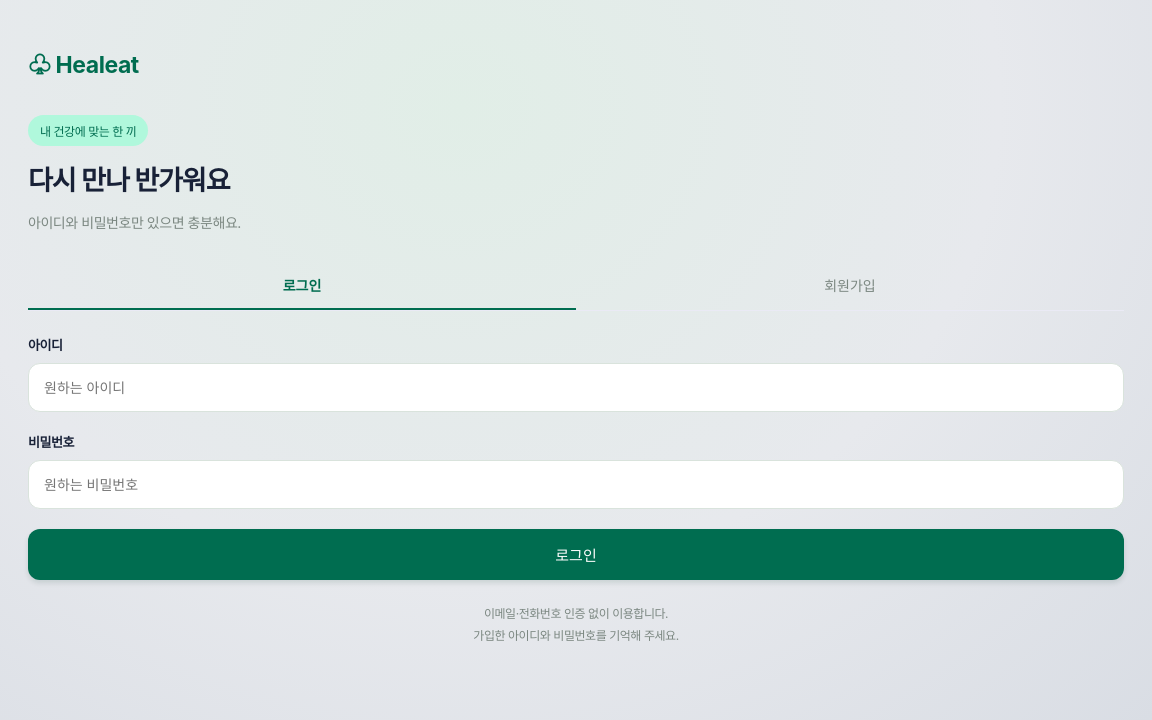
React migration regression coverage › signs up from the React form and opens the authenticated app
Click the button "회원가입".
click(850, 286)  # box x1=576 y1=262 x2=1124 y2=310
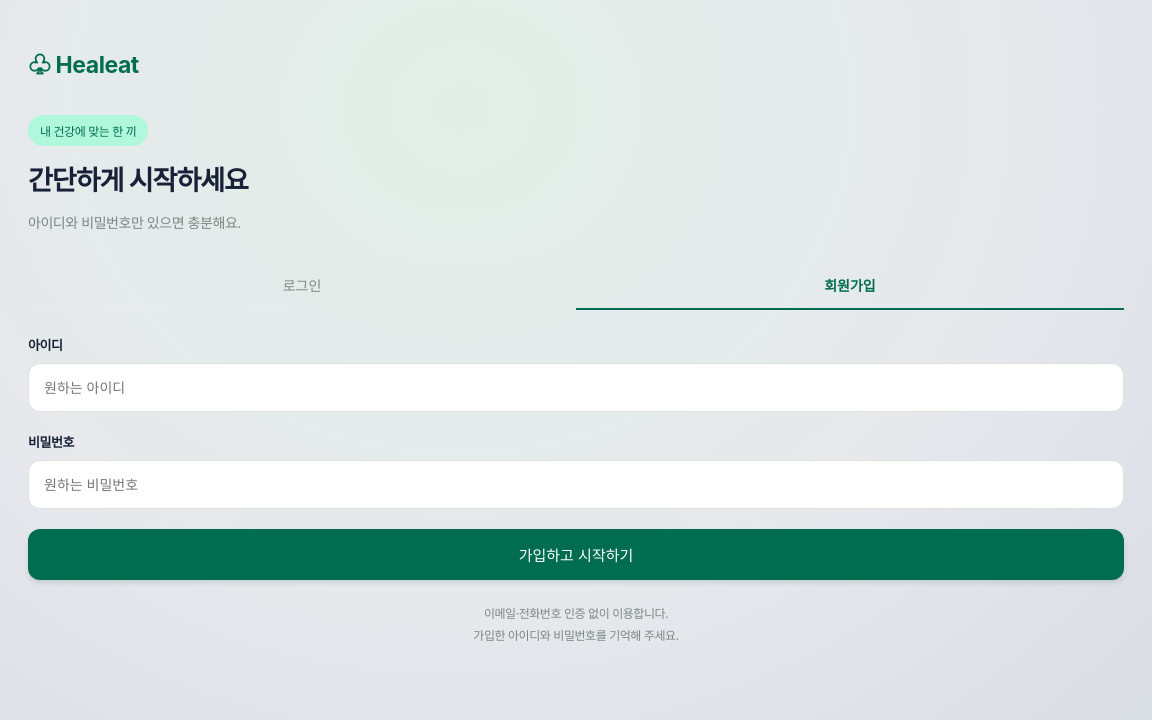
Type "가나다" into the field labelled "아이디".
click(576, 388); type("가나다")  # box x1=28 y1=363 x2=1124 y2=412
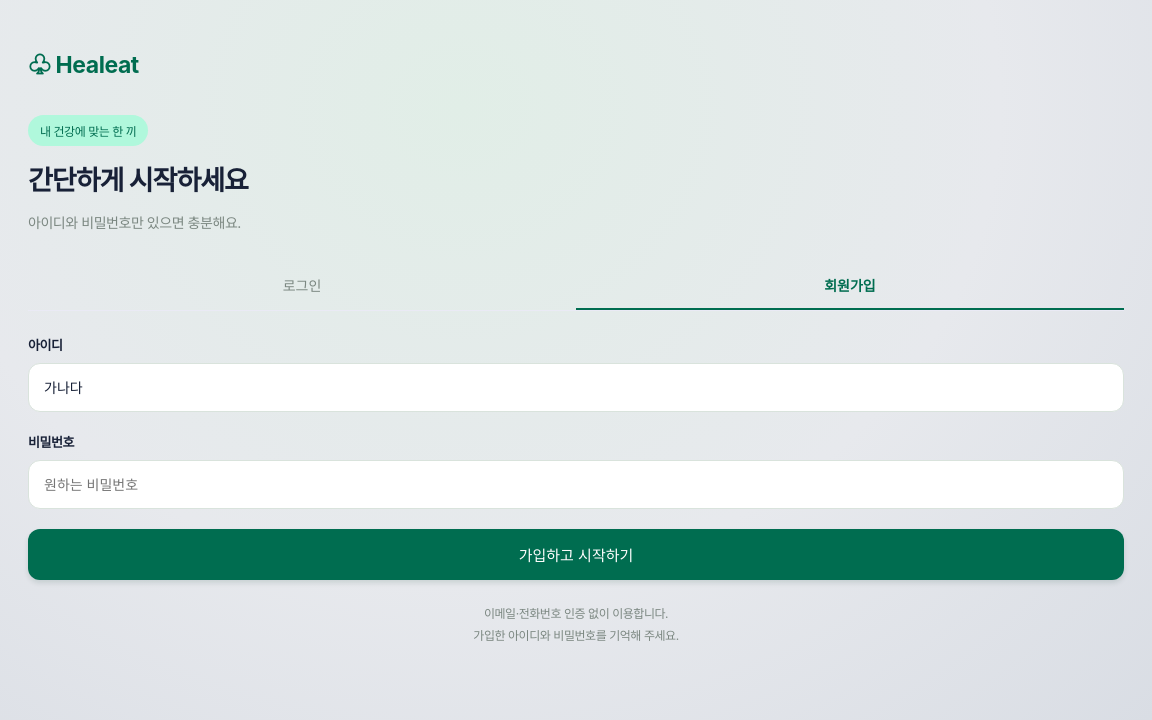
Type "1" into the password field labelled "비밀번호".
click(576, 484); type("1")  # box x1=28 y1=460 x2=1124 y2=509
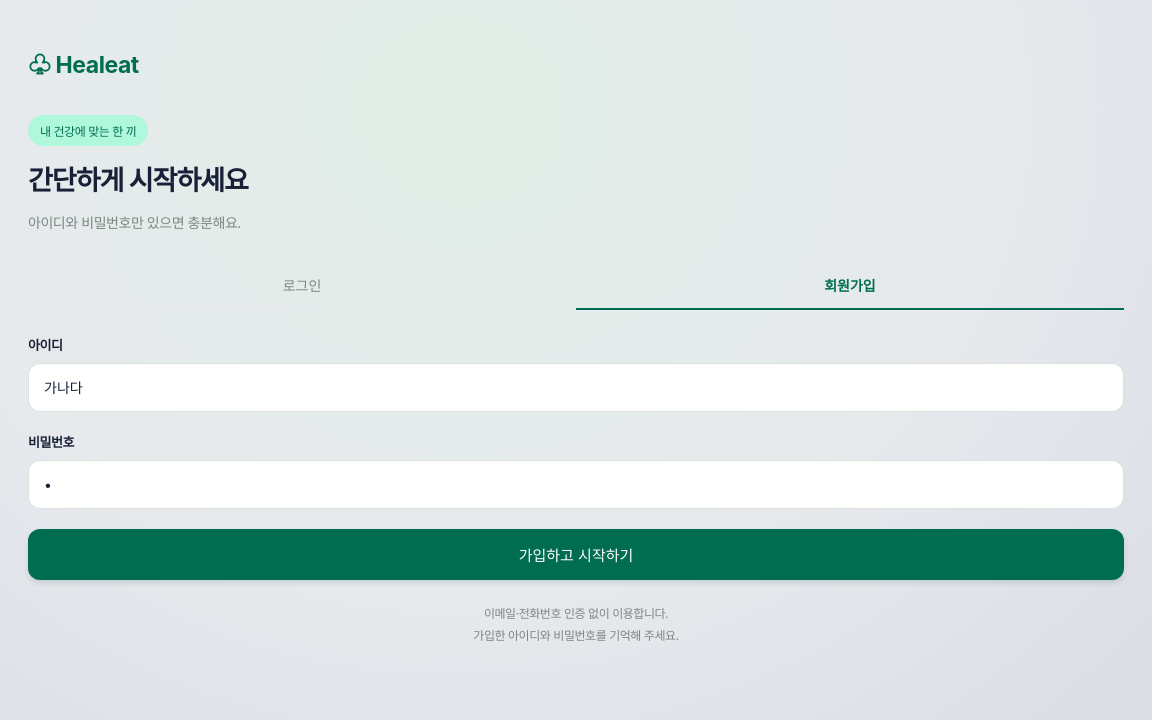
Click the button "가입하고 시작하기".
click(576, 554)  # box x1=28 y1=529 x2=1124 y2=580
(page scrolled)
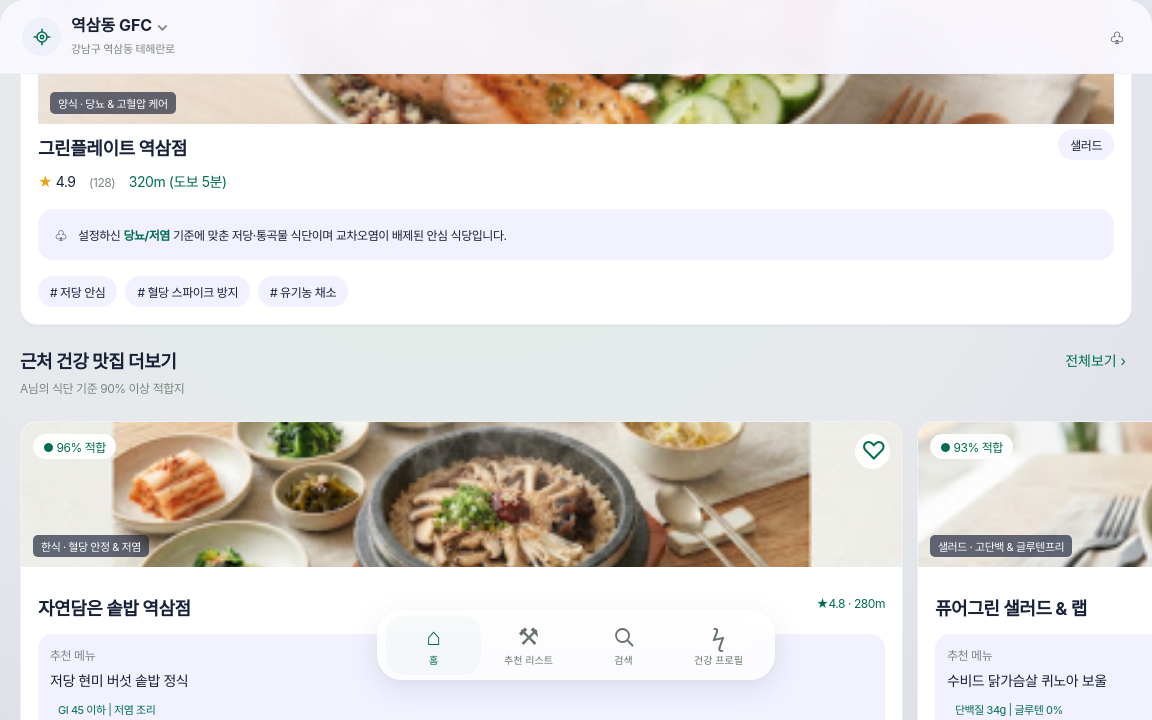
Now the heading "근처 건강 맛집 더보기" is shown, box x1=20 y1=347 x2=176 y2=373
